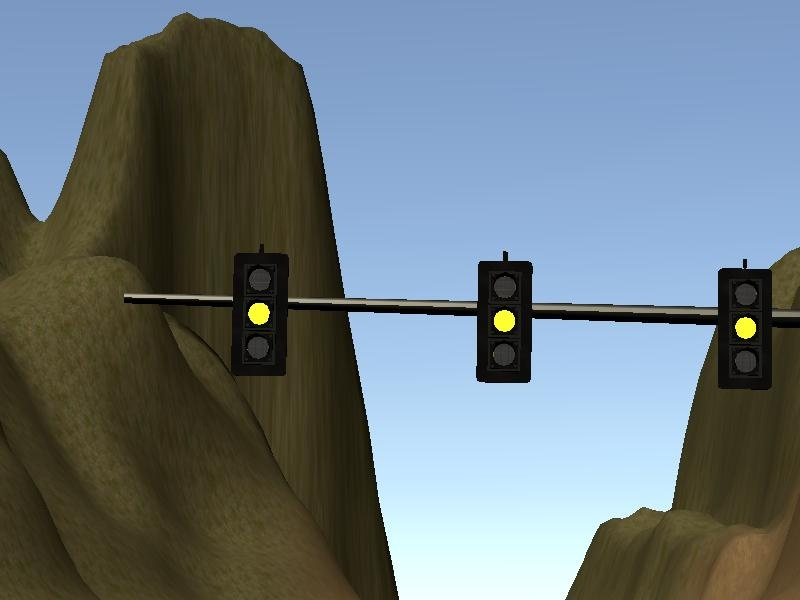YELLOW: (229, 246, 288, 378), (475, 251, 534, 383), (714, 257, 773, 389)
